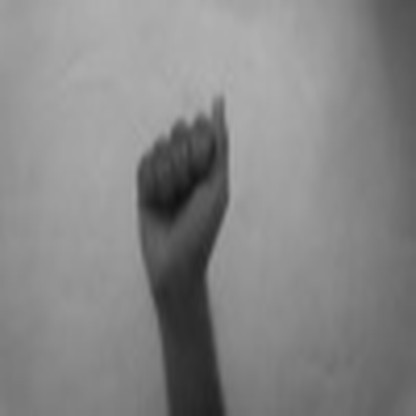a: (124, 78, 240, 278)
